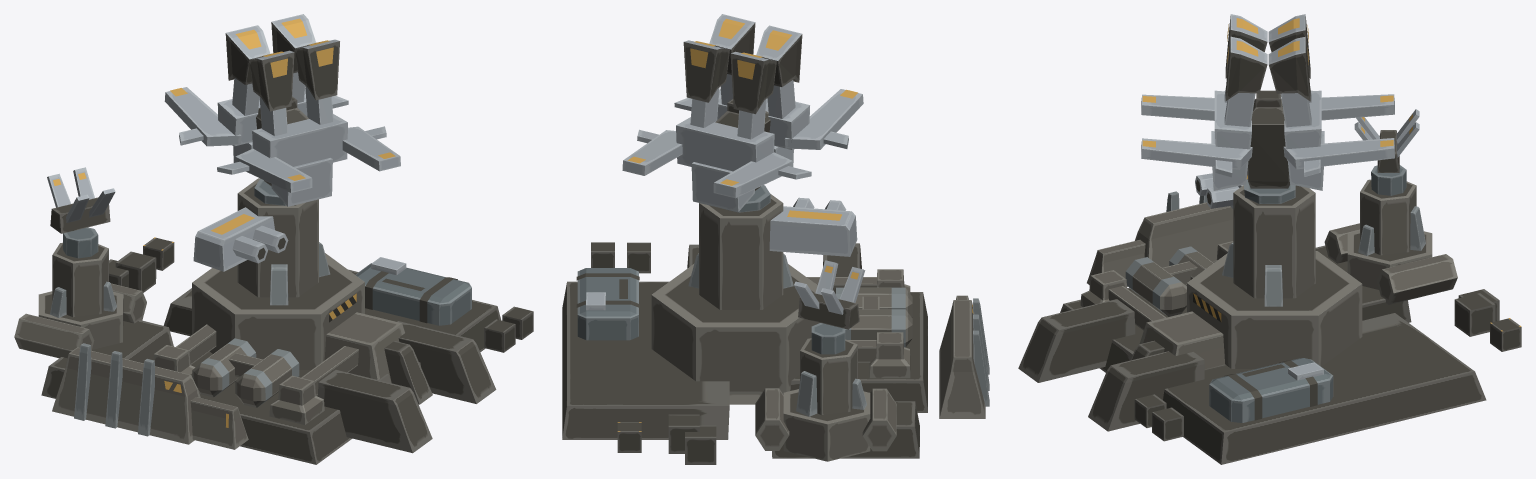
The model's file is bastion3.FBX.
3 renders of one model, left to right at view 1: azimuth 30°, elevation 25°; view 2: azimuth 150°, elevation 25°; view 3: azimuth 270°, elevation 25°, orthographic. The views are drawn at different scales.
Parts seen in each view (by area): view 1: bastion3, a, b; view 2: bastion3, a, b; view 3: bastion3, a, b.
Part boxes in pixels (x1,y1,x2,y2): bastion3: [14, 178, 533, 464]; a: [164, 14, 400, 206]; b: [47, 167, 115, 233]; bastion3: [562, 185, 989, 464]; a: [622, 14, 863, 212]; b: [794, 260, 865, 329]; bastion3: [1018, 165, 1521, 464]; a: [1141, 14, 1394, 190]; b: [1354, 109, 1419, 172].
Size of the model in its own units: 164 by 163 by 123.
